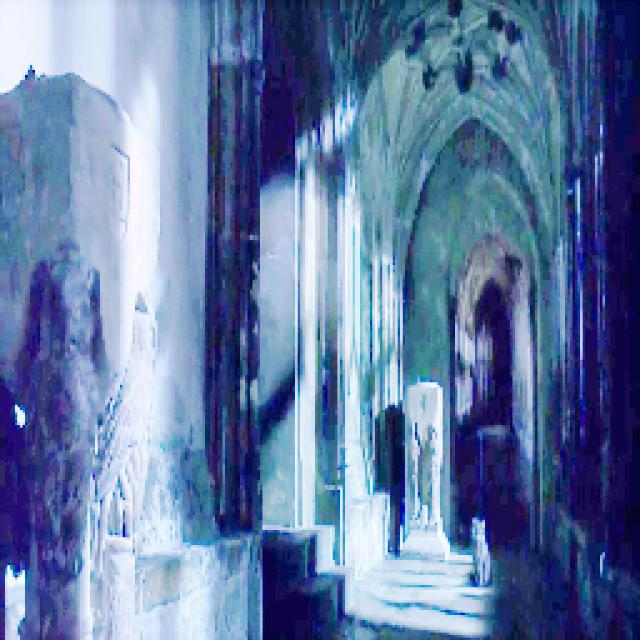cat: (448, 494, 524, 589)
